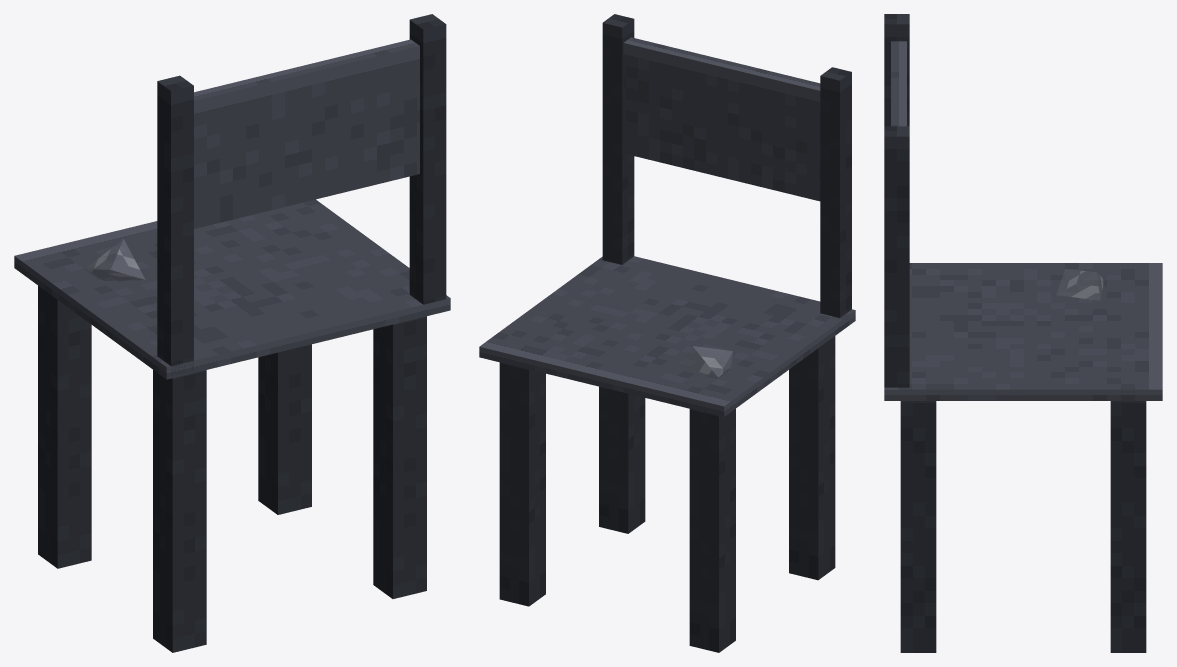
Rendered from f_vitrified_chair.glb.
3 renders of one model, left to right at view 1: azimuth 30°, elevation 25°; view 2: azimuth 150°, elevation 25°; view 3: azimuth 270°, elevation 25°, orthographic. The views are drawn at different scales.
Parts seen in each view (by area): view 1: block_thin-semi-transparent-seat, block_fragile-back-panel, block_glass-back-upright (×2), block_leg--0.17800000000000002-0.161, block_leg-0.17800000000000002-0.161, block_leg--0.17800000000000002--0.161, block_leg-0.17800000000000002--0.161, block_crunching-seat-fracture; view 2: block_thin-semi-transparent-seat, block_fragile-back-panel, block_glass-back-upright (×2), block_leg--0.17800000000000002--0.161, block_leg-0.17800000000000002--0.161, block_leg--0.17800000000000002-0.161, block_leg-0.17800000000000002-0.161, block_crunching-seat-fracture; view 3: block_thin-semi-transparent-seat, block_leg-0.17800000000000002--0.161, block_leg-0.17800000000000002-0.161, block_glass-back-upright (×2), block_fragile-back-panel, block_crunching-seat-fracture.
Boxes of the visible parts, x1,y1,x2,y2 form: block_thin-semi-transparent-seat: (14,199,450,379); block_fragile-back-panel: (194,39,419,228); block_glass-back-upright (×2): (157,14,446,375); block_leg--0.17800000000000002-0.161: (153,370,206,652); block_leg-0.17800000000000002-0.161: (373,316,426,598); block_leg--0.17800000000000002--0.161: (38,285,91,568); block_leg-0.17800000000000002--0.161: (258,344,311,514); block_crunching-seat-fracture: (86,239,145,280); block_thin-semi-transparent-seat: (479,256,855,416); block_fragile-back-panel: (623,37,820,201); block_glass-back-upright (×2): (602,14,851,317); block_leg--0.17800000000000002--0.161: (689,409,735,652); block_leg-0.17800000000000002--0.161: (499,362,545,606); block_leg--0.17800000000000002-0.161: (789,336,835,580); block_leg-0.17800000000000002-0.161: (599,386,645,533); block_crunching-seat-fracture: (680,346,732,377); block_thin-semi-transparent-seat: (884,263,1162,400); block_leg-0.17800000000000002--0.161: (1110,401,1146,652); block_leg-0.17800000000000002-0.161: (900,401,936,652); block_glass-back-upright (×2): (884,14,909,387); block_fragile-back-panel: (891,41,906,126); block_crunching-seat-fracture: (1056,269,1103,300).
Bounding box in the file's own units: 0.459 × 0.882 × 0.427.
3 materials, 3 textured.
